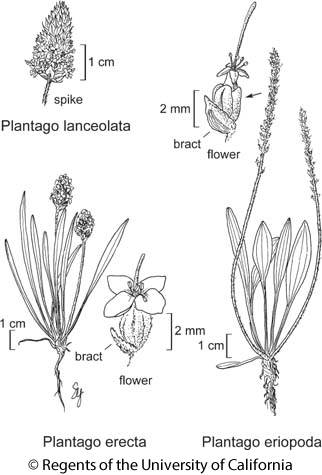buckhorn plantain: (220, 44, 317, 355), (5, 172, 114, 350)
